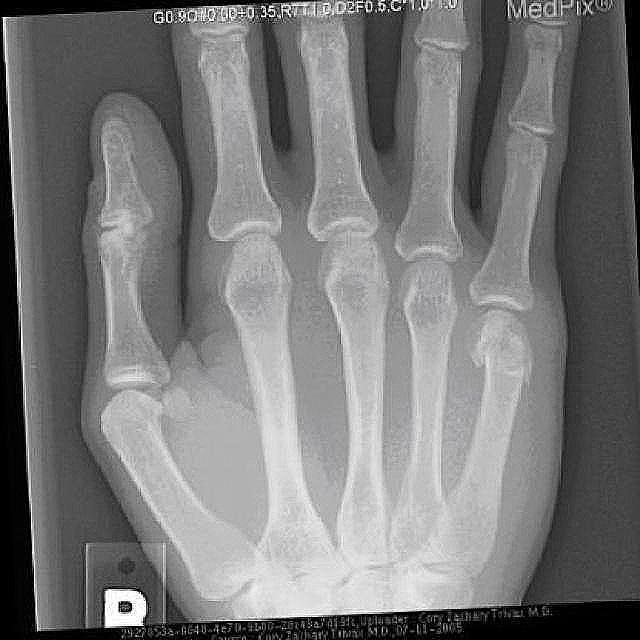bone: (462, 308, 544, 404)
